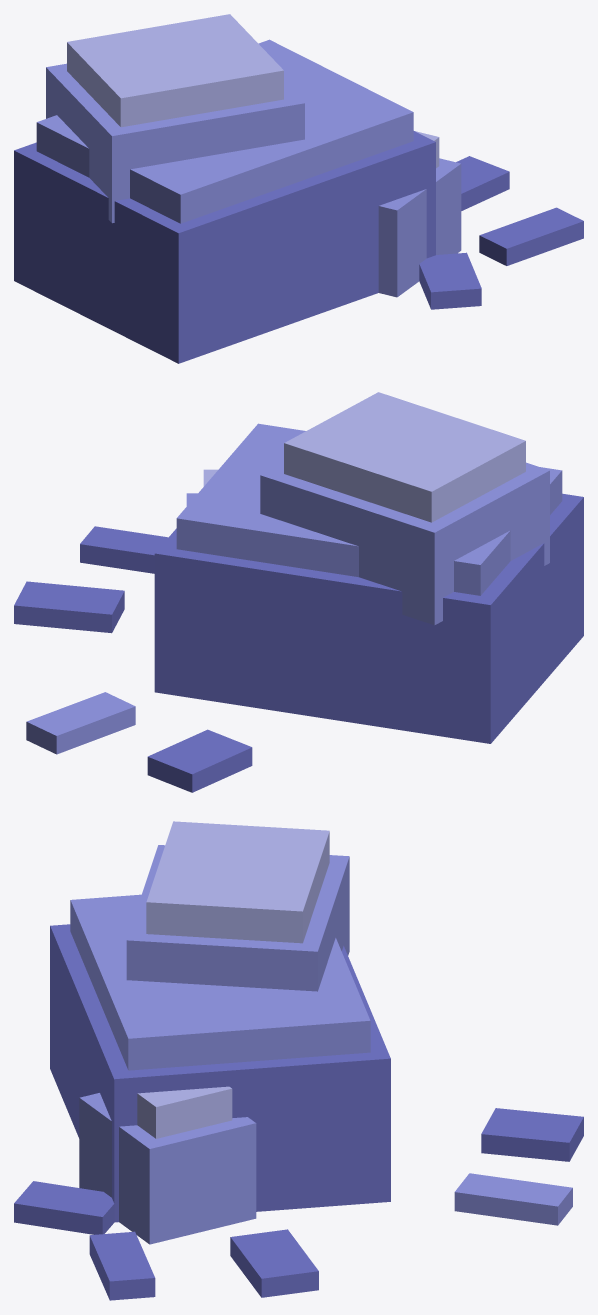
Rendered from Rock.fbx.
The picture shows the model from 3 angles, top to bottom: view 1: azimuth 30°, elevation 25°; view 2: azimuth 150°, elevation 25°; view 3: azimuth 270°, elevation 25°; orthographic projection. The views are drawn at different scales.
Visible parts, largest first — view 1: RockBlueDark, RockBlue.001, RockTop; view 2: RockBlueDark, RockBlue.001, RockTop; view 3: RockBlue.001, RockBlueDark, RockTop.
Boxes of the visible parts, x1,y1,x2,y2 form: RockBlueDark: (14, 131, 583, 363); RockBlue.001: (36, 39, 461, 297); RockTop: (67, 14, 439, 168); RockBlueDark: (14, 493, 583, 792); RockBlue.001: (26, 423, 562, 754); RockTop: (203, 392, 525, 522); RockBlue.001: (70, 845, 572, 1244); RockBlueDark: (14, 924, 583, 1300); RockTop: (137, 821, 329, 1138).
Size of the model in its own units: 6.8 by 3.1 by 6.49.
